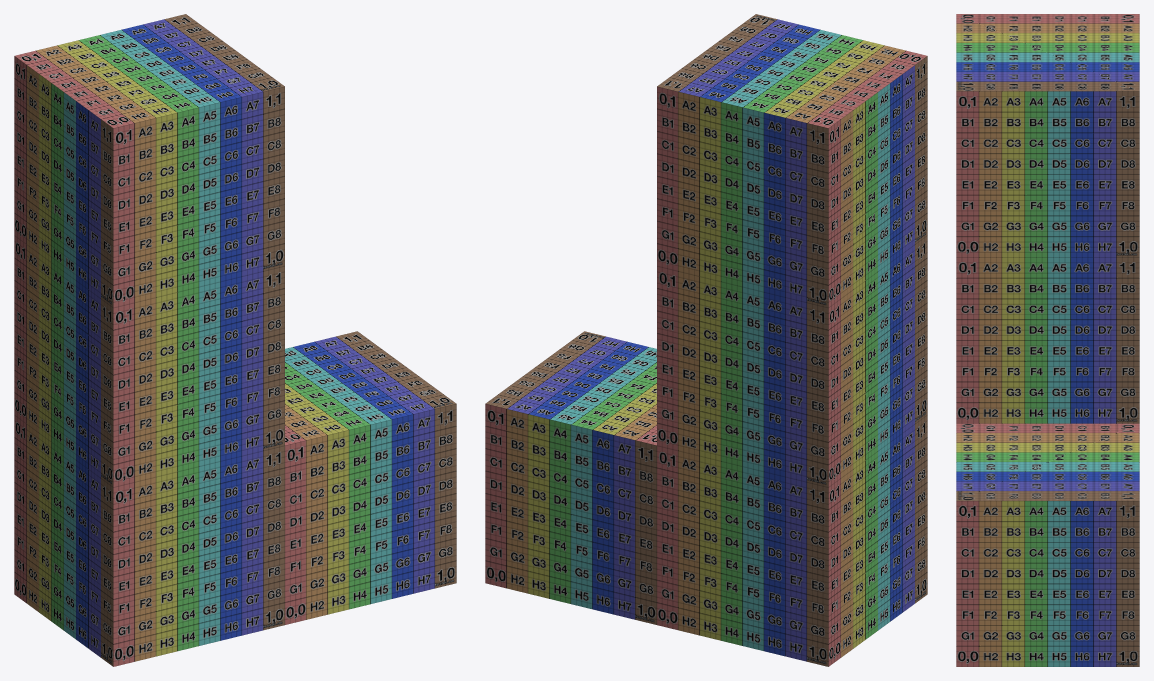
File: building.glb
3 views of the same model, side by side, from view 1: azimuth 30°, elevation 25°; view 2: azimuth 150°, elevation 25°; view 3: azimuth 270°, elevation 25° (orthographic). The views are drawn at different scales.
Visible parts, largest first — view 1: Box001; view 2: Box001; view 3: Box001.
Part boxes in pixels (left/top/right/bottom): Box001: left=14, top=14, right=456, bottom=666; Box001: left=485, top=14, right=927, bottom=666; Box001: left=956, top=14, right=1139, bottom=666.
Size of the model in its own units: 2 by 3 by 1.
Materials: 1 (1 with a texture image).
